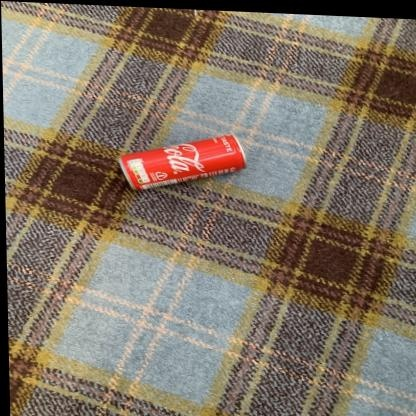trash: (119, 134, 245, 189)
